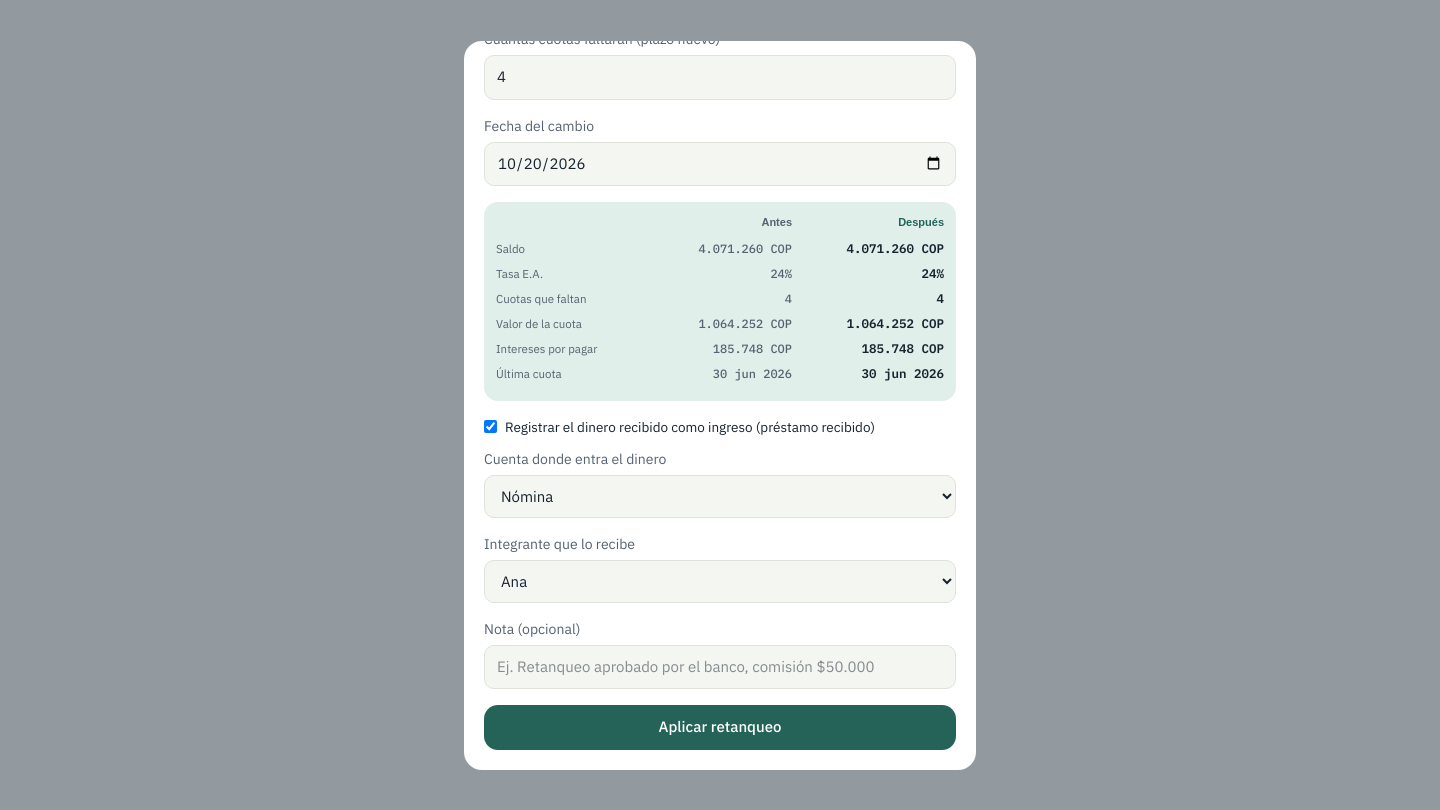
Créditos (prueba de humo) › RefinanceModal exige dinero nuevo en un retanqueo
(page scrolled)
Step 1. Click the button "Aplicar retanqueo" → click(720, 728), box [484, 705, 956, 750]
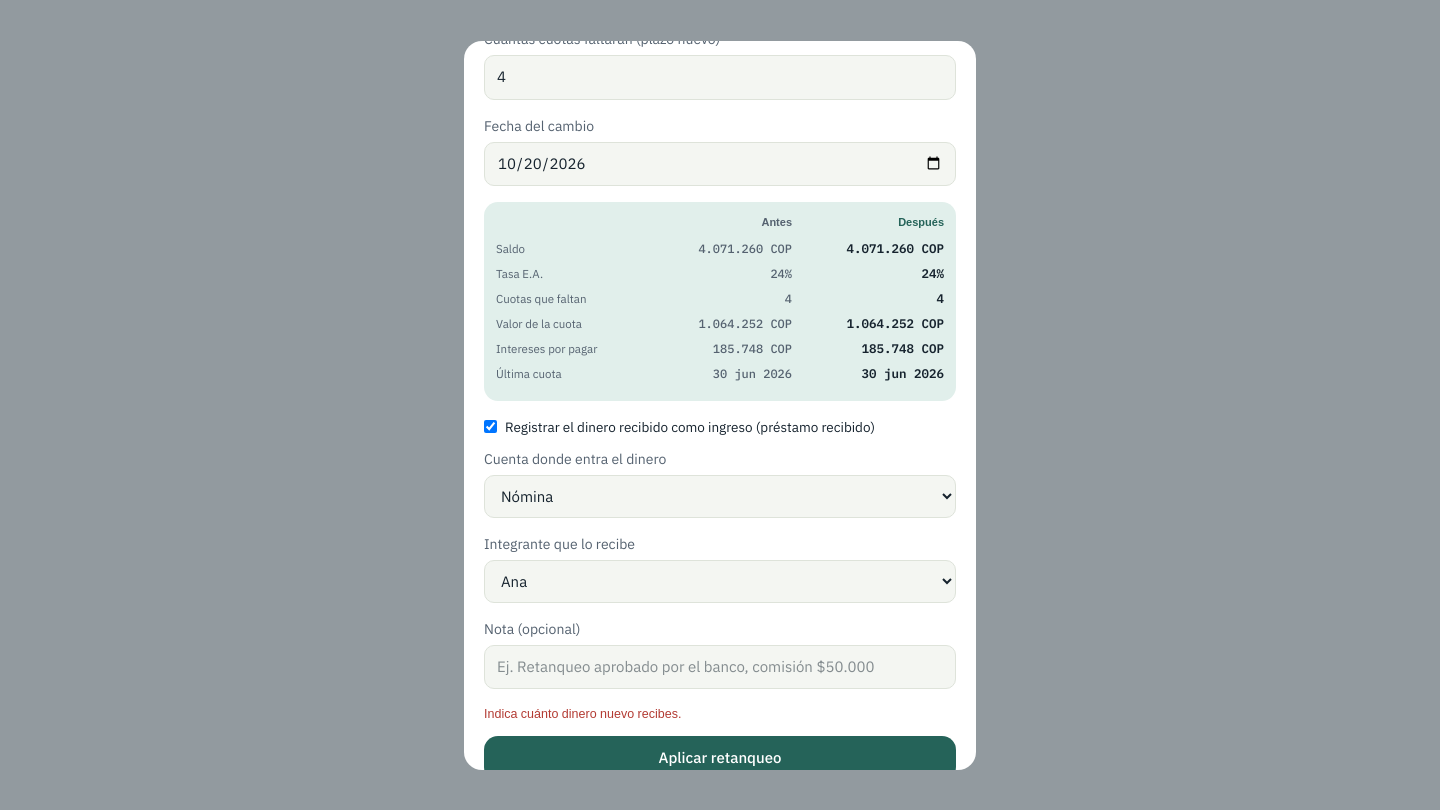
expect the text "Indica cuánto dinero nuevo recibes." is shown: met, box [484, 707, 681, 721]
